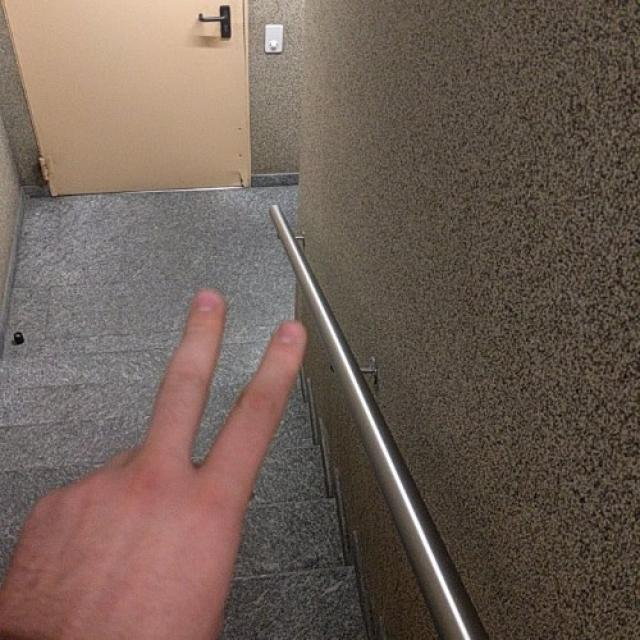scissors: (23, 284, 307, 634)
